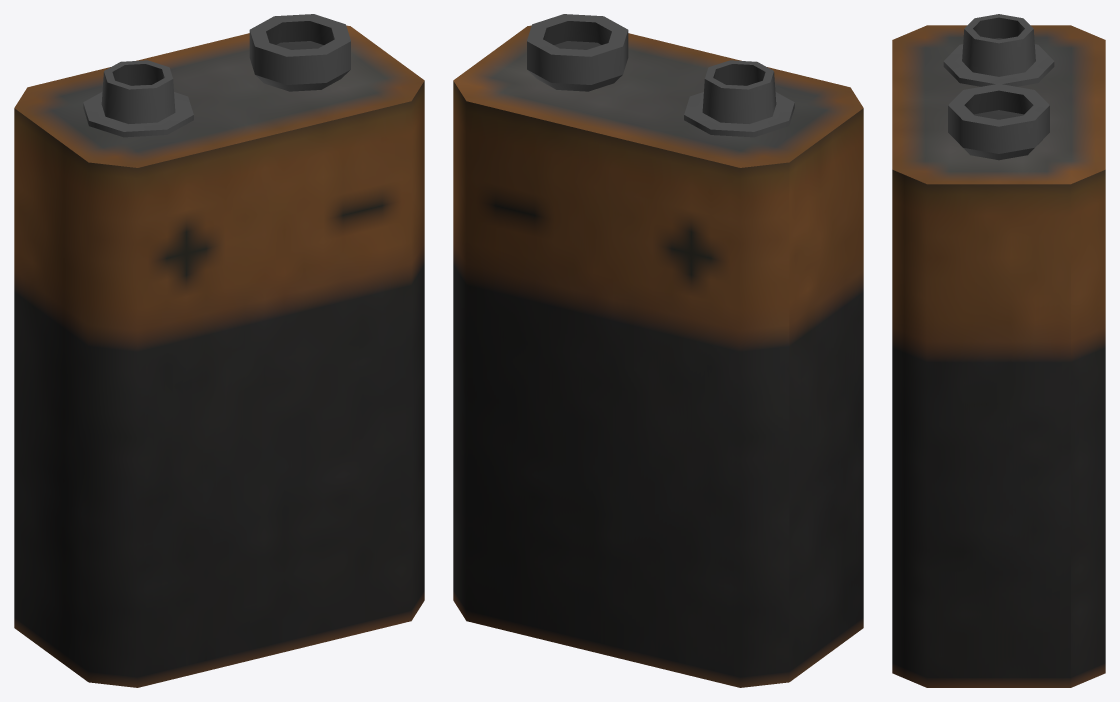
The model's file is battery_mp_3_2.dae.
The picture shows the model from 3 angles, left to right: view 1: azimuth 30°, elevation 25°; view 2: azimuth 150°, elevation 25°; view 3: azimuth 270°, elevation 25°; orthographic projection. The views are drawn at different scales.
Visible parts, largest first — view 1: battery_mp_3_2; view 2: battery_mp_3_2; view 3: battery_mp_3_2.
Boxes of the visible parts, x1,y1,x2,y2 form: battery_mp_3_2: [14, 14, 424, 687]; battery_mp_3_2: [453, 14, 863, 687]; battery_mp_3_2: [892, 14, 1105, 687].
Bounding box in the file's own units: 0.0648 × 0.0368 × 0.103.
1 material, 1 textured.
